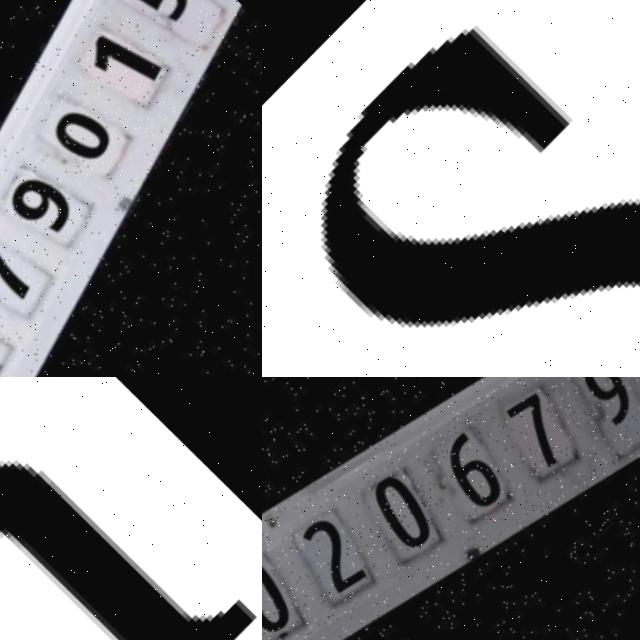0: (17, 71, 144, 193), (339, 449, 463, 568), (262, 533, 323, 640)
1: (59, 7, 178, 121)
2: (272, 492, 394, 610)
5: (101, 0, 215, 47)
6: (409, 410, 530, 526)
7: (478, 377, 594, 483), (0, 210, 66, 333)
9: (0, 139, 106, 264), (551, 377, 640, 437)
M: (0, 380, 262, 640)
S: (262, 0, 640, 377)
